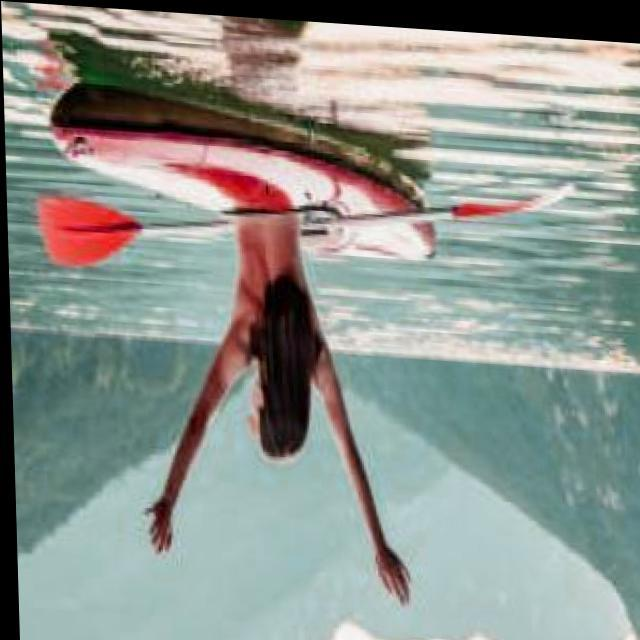kayak: (51, 85, 436, 510), (50, 88, 433, 486), (38, 197, 142, 263), (41, 201, 141, 263)
